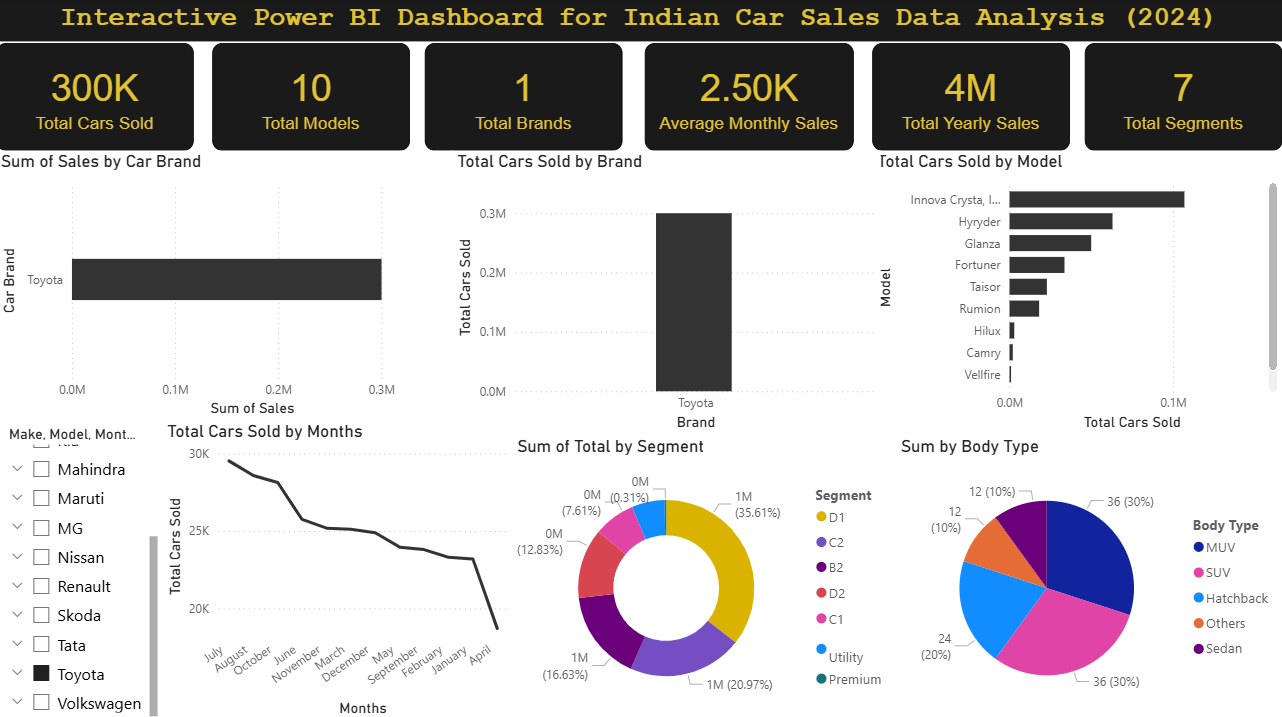

What the dashboard file says about the page in this screenshot:
{"tool":"powerbi","page":{"name":"Page 1","canvas":[1280,720],"ordinal":0},"visuals":[{"type":"card","fields":{"Values":["Sheet1.Total Cars Sold"]},"box":[0,44.8,196.5,107],"z":0},{"type":"card","fields":{"Values":["Sheet1.Total Models"]},"box":[215.2,44.8,196.5,107],"z":1},{"type":"card","fields":{"Values":["Sheet1.Total Brands"]},"box":[426.7,44.8,196.5,107],"z":2},{"type":"card","fields":{"Values":["Car Sales.Average Monthly Sales"]},"box":[645.6,44.8,207.7,107],"z":3},{"type":"card","fields":{"Values":["Car Sales.Total Yearly Sales"]},"box":[872,44.8,196.5,107],"z":4},{"type":"card","fields":{"Values":["Car Sales.Total Segments"]},"box":[1083.4,44.8,196.5,107],"z":5},{"type":"clusteredBarChart","fields":{"Category":["Car Sales.Make"],"Y":["Sum(Car Sales.Sales)"]},"box":[0,151.8,454,269.9],"z":6},{"type":"pieChart","fields":{"Category":["Car Sales.Body Type"],"Y":["CountNonNull(Car Sales.Total)"]},"box":[895.7,435.4,384.4,284.9],"z":7},{"type":"donutChart","fields":{"Category":["Car Sales.Segment"],"Y":["Sum(Car Sales.Total)"]},"box":[513.8,435.4,381.9,284.9],"z":8},{"type":"barChart","fields":{"Category":["Car Sales.Model"],"Y":["Car Sales.Total Cars Sold"]},"box":[872,151.8,408,283.6],"z":10},{"type":"slicer","fields":{"Values":["Car Sales.Make","Car Sales.Model","Car Sales.Months","Car Sales.Body Type","Car Sales.Segment"]},"box":[0,420.5,165.4,299.8],"z":11},{"type":"lineChart","fields":{"Y":["Car Sales.Total Cars Sold"],"Category":["Car Sales.Months"]},"box":[165.4,420.5,348.3,299.8],"z":12},{"type":"lineClusteredColumnComboChart","fields":{"Y":["Car Sales.Total Cars Sold"],"Category":["Car Sales.Make"]},"box":[454,151.8,426.7,283.6],"z":13},{"type":"textbox","box":[0,0,1280,43.5],"z":14}]}

Visuals, with their boxes in screenshot pixels (x1, y1, x2, y2), scaled from the page's 1280x720 canvas onto the 1282x717 screenshot:
card - Sheet1.Total Cars Sold: 0:45:197:151
card - Sheet1.Total Models: 216:45:412:151
card - Sheet1.Total Brands: 427:45:624:151
card - Car Sales.Average Monthly Sales: 647:45:855:151
card - Car Sales.Total Yearly Sales: 873:45:1070:151
card - Car Sales.Total Segments: 1085:45:1281:151
clusteredBarChart - Car Sales.Make x Sum(Car Sales.Sales): 0:151:455:420
pieChart - Car Sales.Body Type x CountNonNull(Car Sales.Total): 897:434:1281:716
donutChart - Car Sales.Segment x Sum(Car Sales.Total): 515:434:897:716
barChart - Car Sales.Model x Car Sales.Total Cars Sold: 873:151:1281:434
slicer - Car Sales.Make x Car Sales.Model: 0:419:166:716
lineChart - Car Sales.Total Cars Sold x Car Sales.Months: 166:419:515:716
lineClusteredColumnComboChart - Car Sales.Total Cars Sold x Car Sales.Make: 455:151:882:434
textbox: 0:0:1281:43
